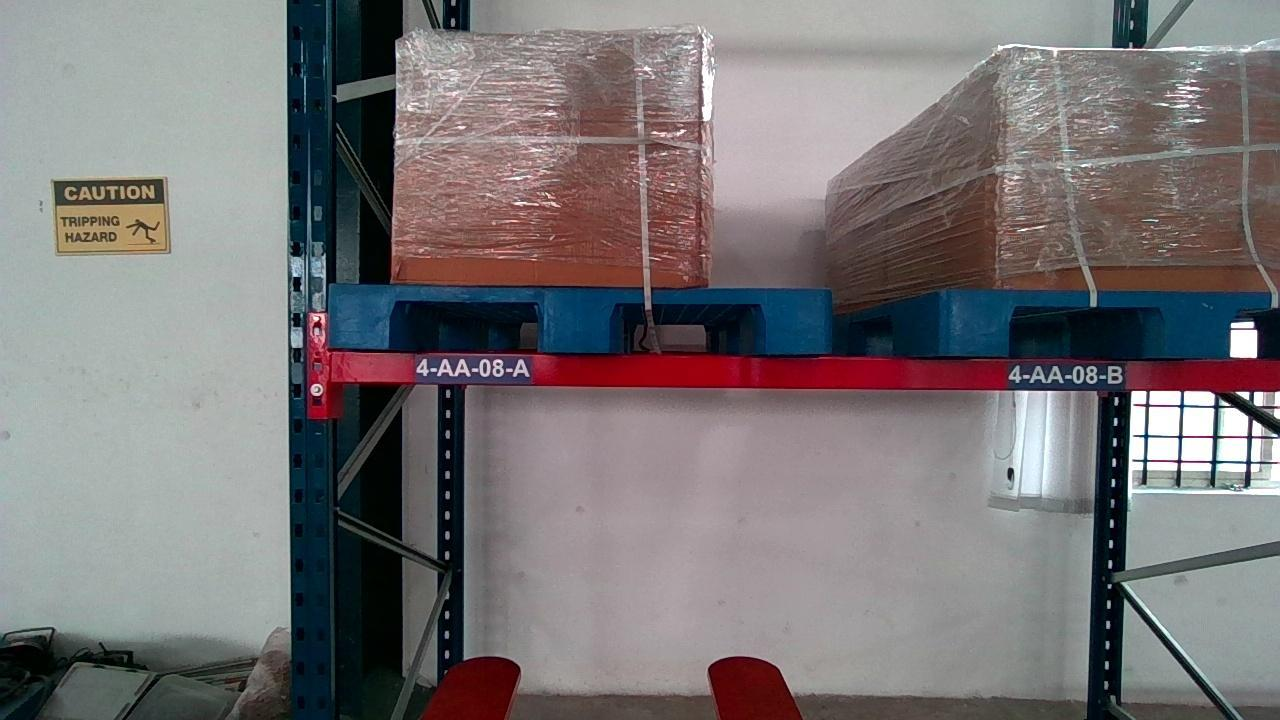h_rack: (322, 350, 1280, 391)
small_pallet: (333, 283, 828, 352), (964, 290, 1280, 355)
